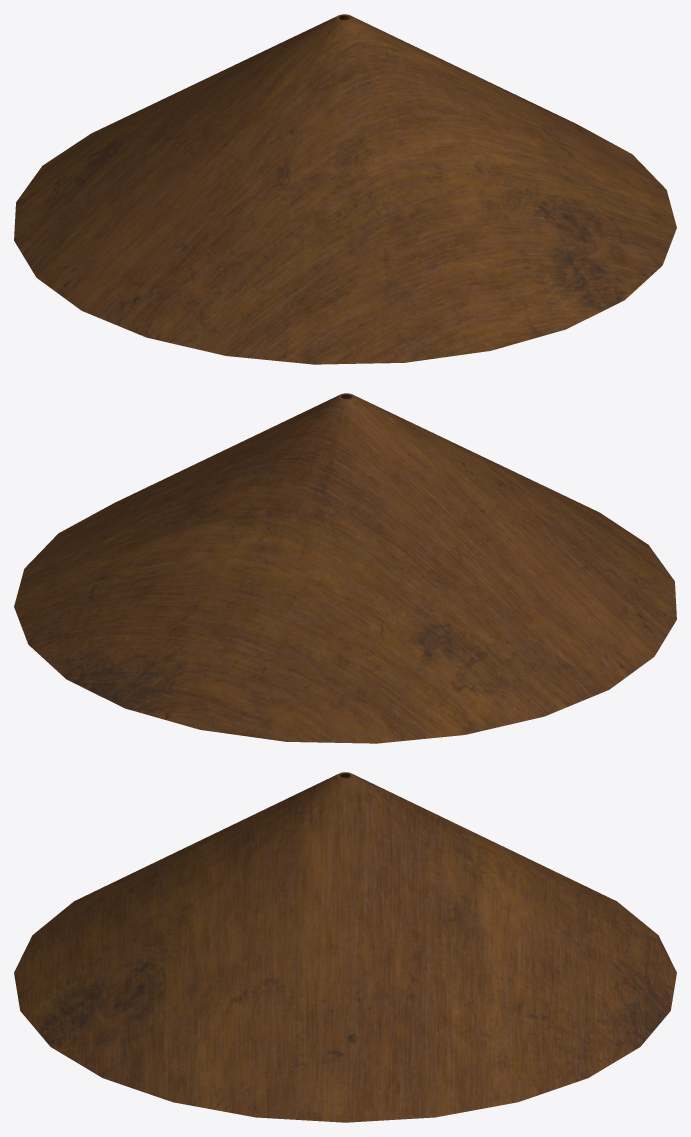
File: Roof.FBX
The picture shows the model from 3 angles, top to bottom: view 1: azimuth 30°, elevation 25°; view 2: azimuth 150°, elevation 25°; view 3: azimuth 270°, elevation 25°; orthographic projection.
Visible parts, largest first — view 1: Cone001; view 2: Cone001; view 3: Cone001.
Part boxes in pixels (x1,y1,x2,y2): Cone001: (14,14,676,364); Cone001: (14,393,676,743); Cone001: (14,772,676,1122).
Bounding box in the file's own units: 13.31 × 4.59 × 13.35.
1 material, 1 textured.
